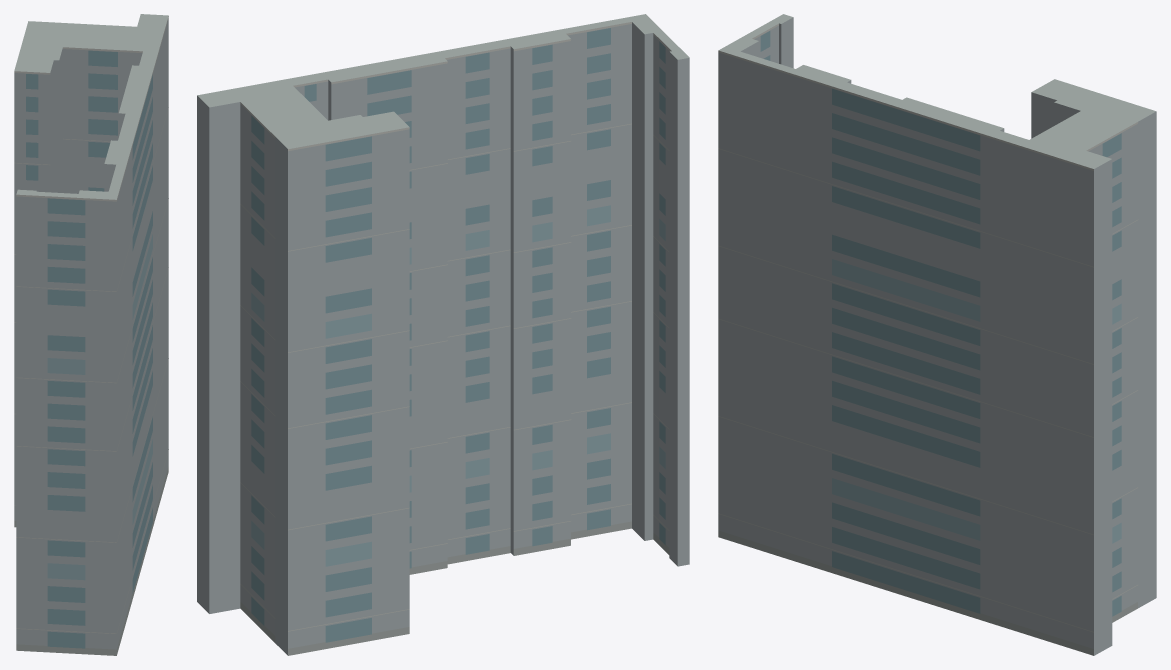
The model's file is survey-upis-32680940.glb.
The picture shows the model from 3 angles, left to right: view 1: azimuth 30°, elevation 25°; view 2: azimuth 150°, elevation 25°; view 3: azimuth 270°, elevation 25°; orthographic projection. The views are drawn at different scales.
Visible parts, largest first — view 1: survey-upis-32680940.tmp; view 2: survey-upis-32680940.tmp; view 3: survey-upis-32680940.tmp.
Boxes of the visible parts, x1,y1,x2,y2 form: survey-upis-32680940.tmp: [14, 14, 168, 655]; survey-upis-32680940.tmp: [197, 14, 689, 655]; survey-upis-32680940.tmp: [718, 14, 1156, 655].
Bounding box in the file's own units: 41.72 × 61 × 49.79.
